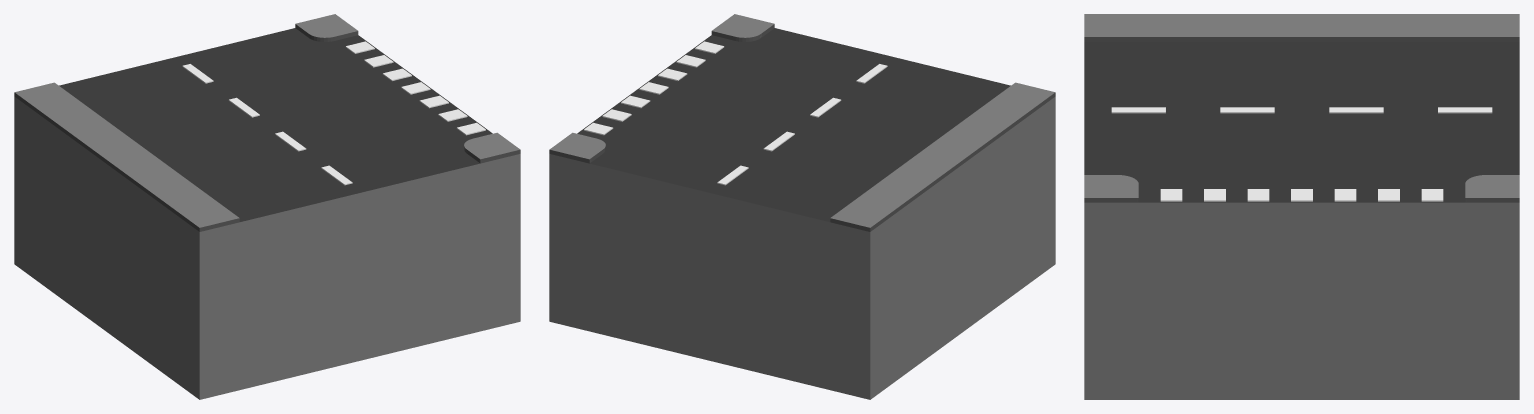
Rendered from TWayStreet.glb.
The picture shows the model from 3 angles, left to right: view 1: azimuth 30°, elevation 25°; view 2: azimuth 150°, elevation 25°; view 3: azimuth 270°, elevation 25°; orthographic projection. The views are drawn at different scales.
Visible parts, largest first — view 1: Cube, Cube.006, Cube.001, Cube.003, Cube.004, Cube.005, Cube.002; view 2: Cube, Cube.006, Cube.001, Cube.003, Cube.005, Cube.004, Cube.002; view 3: Cube, Cube.006, Cube.001, Cube.003, Cube.002, Cube.004, Cube.005.
Part boxes in pixels (<box>): Cube: <box>14,96,520,399</box>; Cube.006: <box>59,28,492,221</box>; Cube.001: <box>14,82,239,231</box>; Cube.003: <box>345,41,485,135</box>; Cube.004: <box>295,14,358,41</box>; Cube.005: <box>464,132,520,163</box>; Cube.002: <box>182,64,352,185</box>; Cube: <box>549,96,1055,399</box>; Cube.006: <box>577,28,1010,221</box>; Cube.001: <box>830,82,1055,231</box>; Cube.003: <box>584,41,724,135</box>; Cube.005: <box>711,14,774,41</box>; Cube.004: <box>549,132,605,163</box>; Cube.002: <box>717,64,887,185</box>; Cube: <box>1084,202,1519,399</box>; Cube.006: <box>1084,42,1519,202</box>; Cube.001: <box>1084,14,1519,41</box>; Cube.003: <box>1160,189,1443,201</box>; Cube.002: <box>1111,107,1492,113</box>; Cube.004: <box>1465,175,1519,202</box>; Cube.005: <box>1084,175,1138,202</box>.
Size of the model in its own units: 16 by 8.2 by 16.
2 materials, 2 textured.
